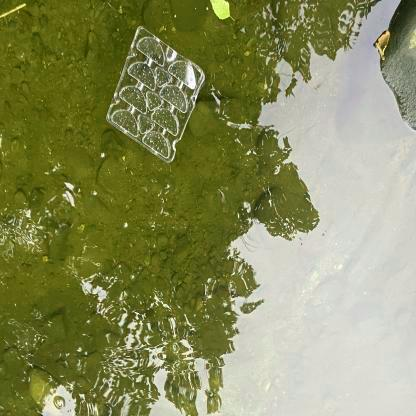Plastic: (99, 23, 208, 167)
